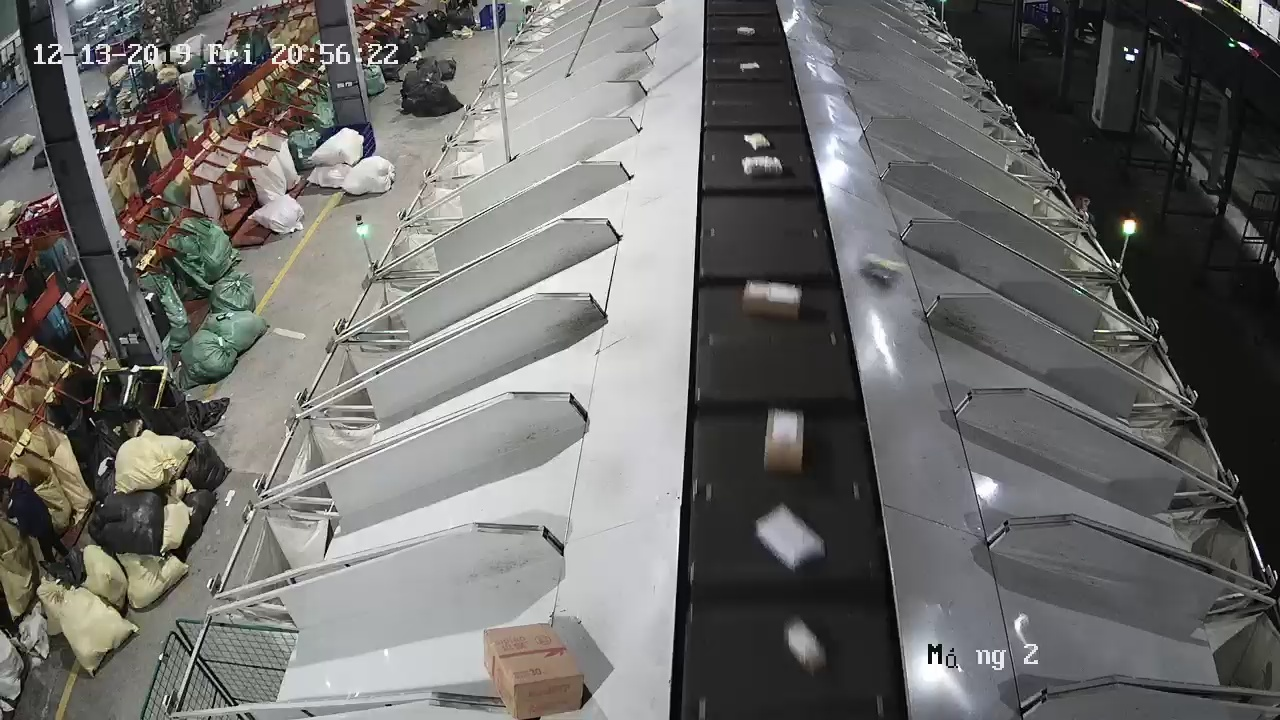parcel: (860, 251, 907, 290)
